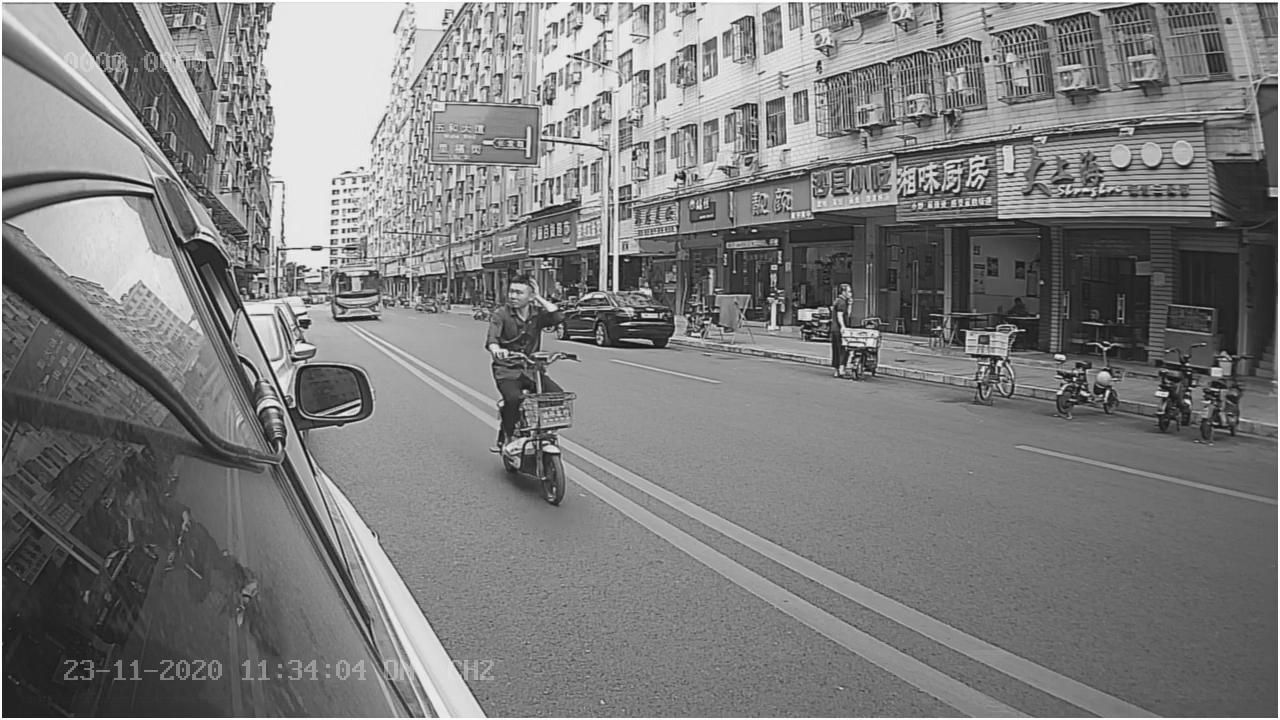person: (483, 266, 565, 362)
